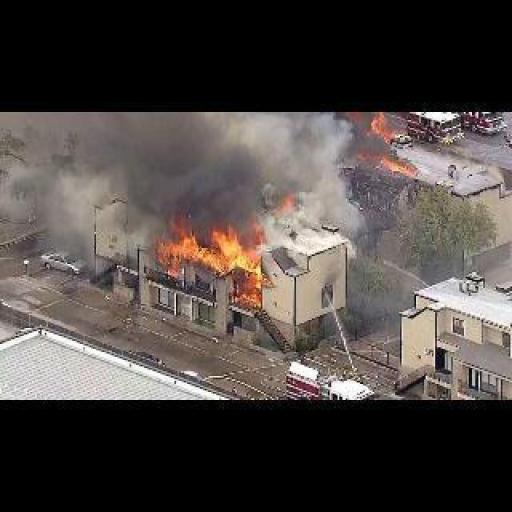smoke: (94, 114, 362, 232), (149, 230, 285, 312), (355, 118, 426, 176)
